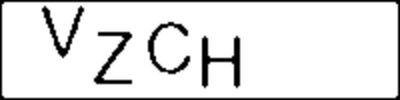C: (147, 18, 192, 75)
H: (197, 32, 246, 92)
V: (37, 4, 88, 59)
Z: (88, 27, 138, 87)
